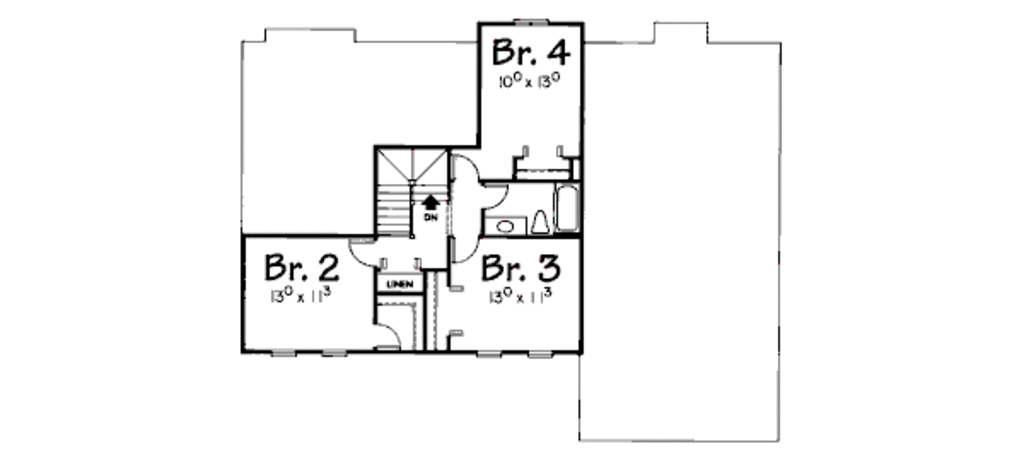door: (449, 150, 484, 186), (370, 317, 401, 355), (347, 237, 375, 278), (448, 233, 478, 268), (480, 181, 512, 211)
large_sink: (527, 209, 553, 234)
small_sink: (484, 216, 530, 237)
stairs: (376, 145, 447, 243)
tub: (553, 184, 582, 240)
window: (514, 14, 553, 33), (526, 344, 559, 360), (321, 345, 350, 363), (267, 346, 302, 359), (477, 347, 508, 360)
